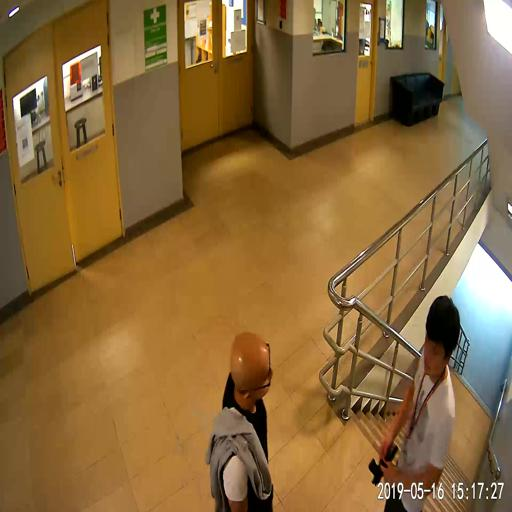pistol: (368, 444, 398, 485)
